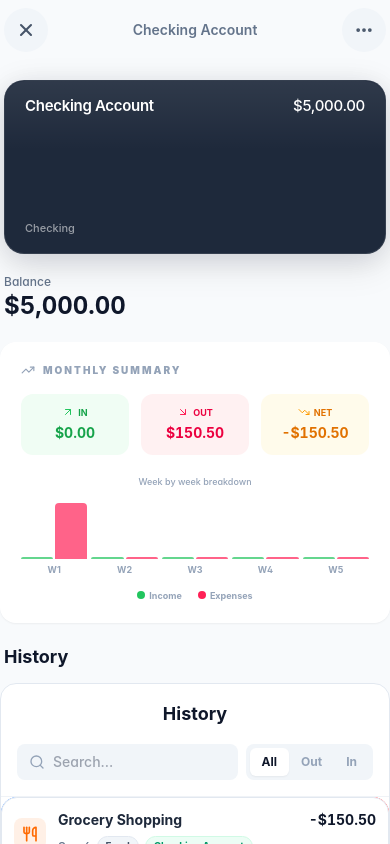
it: AccountDetailsView › opens action sheet when ellipsis is clicked
The width and height of the screenshot is (390, 844).
What coordinates should you click on to do the following:
click the button named "Account options"
I would click on:
 (364, 30)
Its box is x1=342 y1=8 x2=386 y2=52.
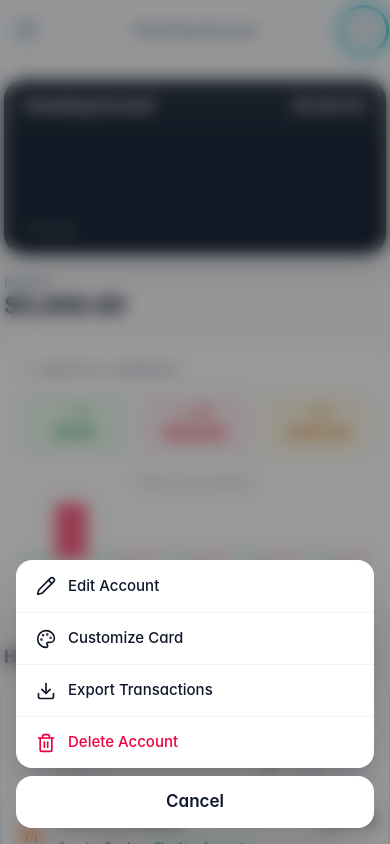
Now the button "Edit Account" is shown, box x1=16 y1=560 x2=374 y2=612
Now the button "Customize Card" is shown, box x1=16 y1=612 x2=374 y2=664
Now the button "Export Transactions" is shown, box x1=16 y1=664 x2=374 y2=716
